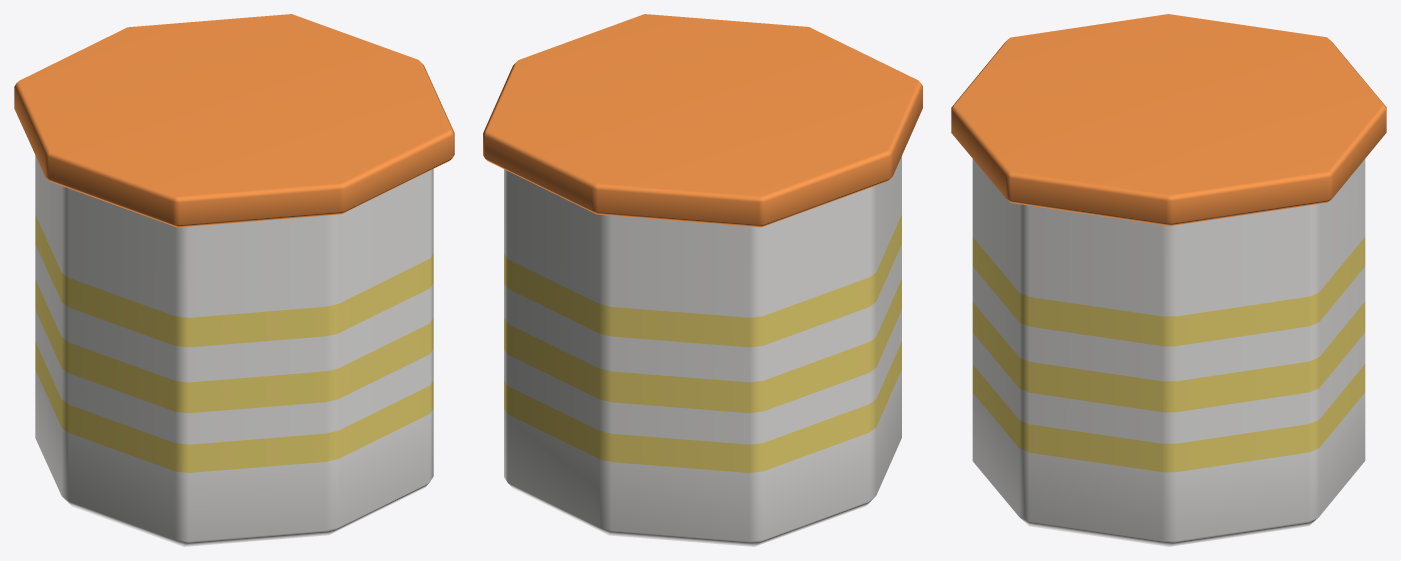
File: Jar_1.glb
3 renders of one model, left to right at view 1: azimuth 30°, elevation 25°; view 2: azimuth 150°, elevation 25°; view 3: azimuth 270°, elevation 25°, orthographic.
Visible parts, largest first — view 1: Jar_1; view 2: Jar_1; view 3: Jar_1.
Part boxes in pixels (bbox=[...]): Jar_1: bbox=[14, 14, 454, 546]; Jar_1: bbox=[483, 14, 922, 546]; Jar_1: bbox=[951, 14, 1386, 546].
Bounding box in the file's own units: 0.2207 × 0.2028 × 0.2207.
1 material, 1 textured.
